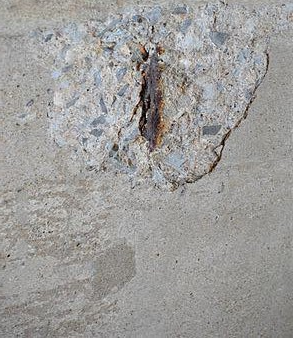Exposed reinforcement: (140, 54, 162, 147)
Spalling: (43, 1, 293, 191)
